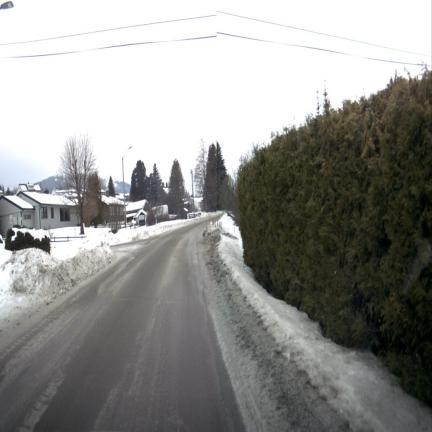Road: (0, 222, 243, 430)
